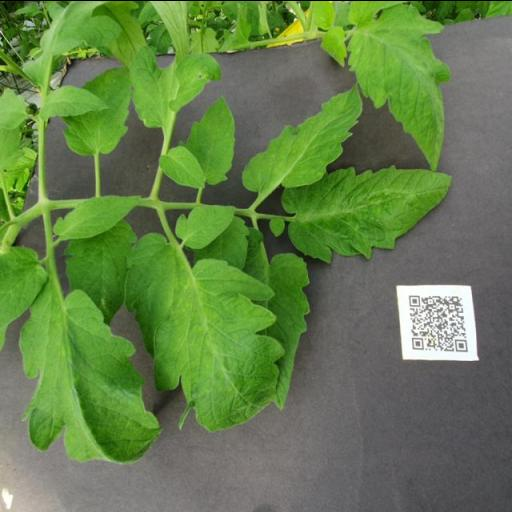Healthy: (122, 232, 280, 432), (18, 284, 162, 465), (344, 2, 452, 172), (282, 166, 452, 260), (240, 80, 364, 190), (62, 66, 132, 156), (178, 92, 236, 184), (51, 190, 142, 240), (173, 202, 237, 250), (39, 84, 110, 119), (158, 144, 204, 190)
